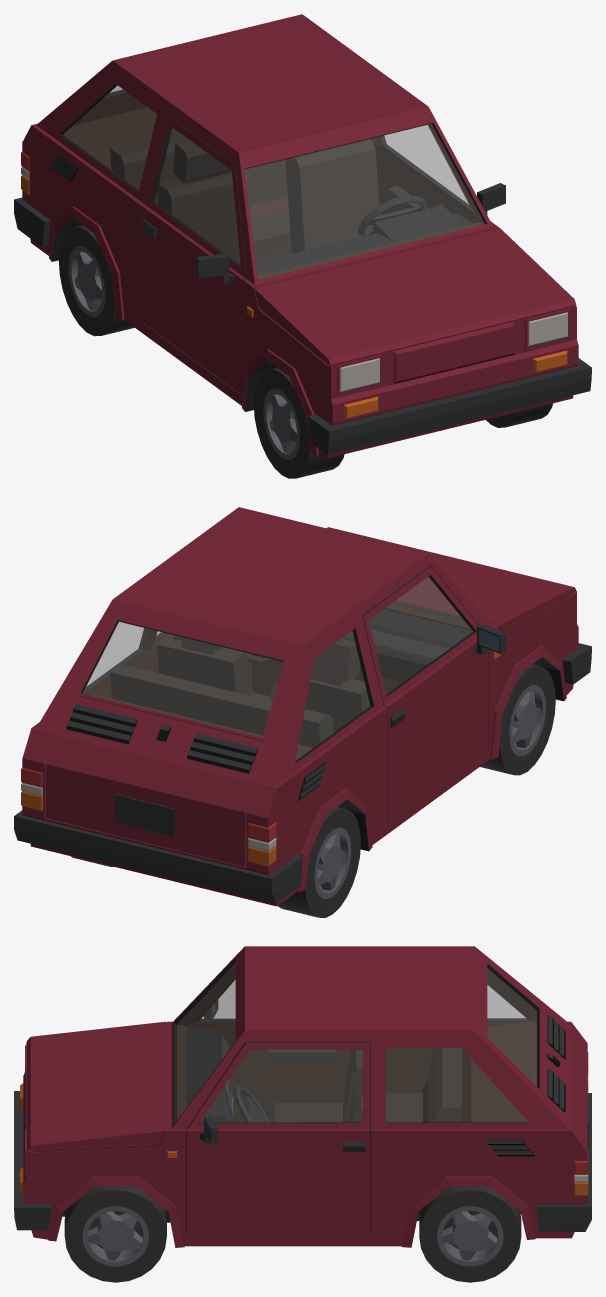
File: fiat_126p.glb
3 views of the same model, one above another, from view 1: azimuth 30°, elevation 25°; view 2: azimuth 150°, elevation 25°; view 3: azimuth 270°, elevation 25° (orthographic). The views are drawn at different scales.
Visible parts, largest first — view 1: MICRO_CAR, WINDOWS.003, INTERIOR, DOOR L.007, GLASS.002, WHEEL_R1.001, WHEEL_R2.001, DOOR R.008, GLASS.001, WHEEL_L1.001; view 2: MICRO_CAR, WINDOWS.003, INTERIOR, DOOR L.007, GLASS.002, WHEEL_R2.001, WHEEL_R1.001; view 3: MICRO_CAR, DOOR R.008, WINDOWS.003, INTERIOR, GLASS.001, WHEEL_L1.001, WHEEL_L2.001, DOOR L.007, GLASS.002.
Boxes of the visible parts, x1,y1,x2,y2 form: MICRO_CAR: (14, 14, 591, 458); WINDOWS.003: (63, 85, 484, 279); INTERIOR: (110, 131, 472, 276); DOOR L.007: (141, 115, 246, 395); GLASS.002: (155, 128, 240, 264); WHEEL_R1.001: (253, 367, 344, 478); WHEEL_R2.001: (58, 225, 134, 336); DOOR R.008: (375, 124, 505, 223); GLASS.001: (381, 125, 471, 210); WHEEL_L1.001: (486, 403, 552, 427); MICRO_CAR: (14, 507, 591, 906); WINDOWS.003: (83, 577, 463, 759); INTERIOR: (110, 609, 472, 747); DOOR L.007: (362, 566, 505, 822); GLASS.002: (369, 577, 472, 694); WHEEL_R2.001: (278, 806, 360, 917); WHEEL_R1.001: (480, 664, 555, 775); MICRO_CAR: (14, 946, 591, 1247); DOOR R.008: (186, 1041, 370, 1236); WINDOWS.003: (177, 963, 536, 1121); INTERIOR: (186, 1028, 462, 1122); GLASS.001: (200, 1050, 362, 1122); WHEEL_L1.001: (64, 1186, 166, 1282); WHEEL_L2.001: (419, 1186, 521, 1282); DOOR L.007: (186, 969, 350, 1121); GLASS.002: (200, 981, 234, 1020).
Bounding box in the file's own units: 1.69 × 1.38 × 3.02.
Materials: 2 (2 with a texture image).
